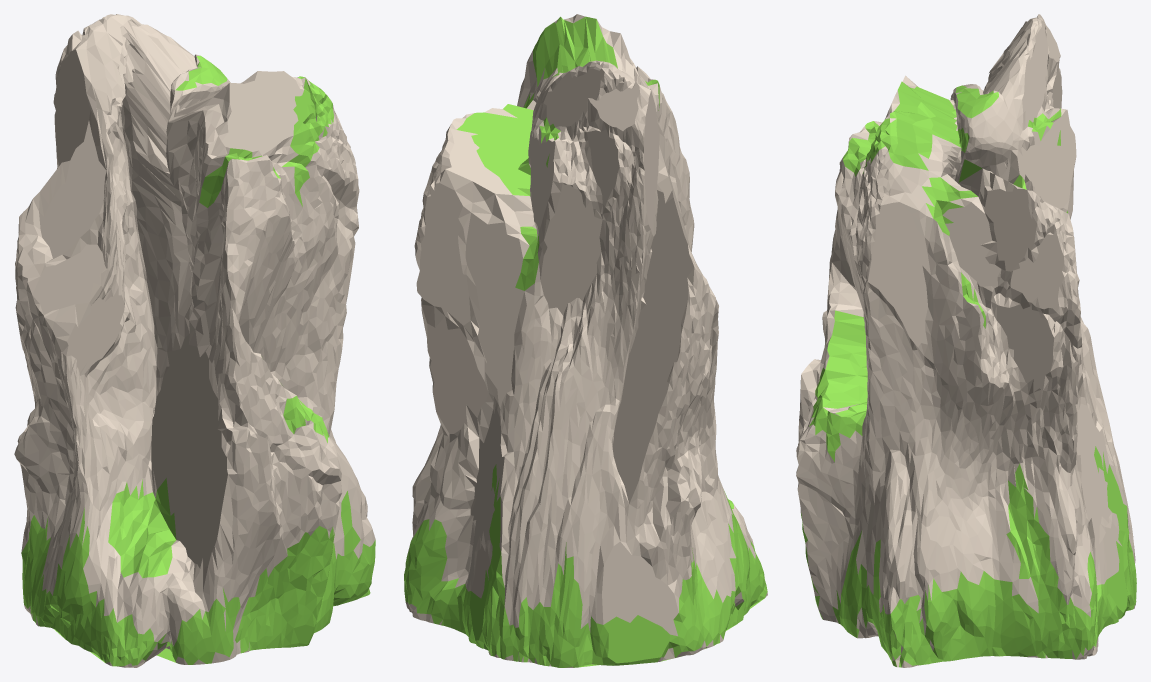
Rendered from rock.fbx.
3 renders of one model, left to right at view 1: azimuth 30°, elevation 25°; view 2: azimuth 150°, elevation 25°; view 3: azimuth 270°, elevation 25°, orthographic. The views are drawn at different scales.
Parts seen in each view (by area): view 1: Cube.002; view 2: Cube.002; view 3: Cube.002.
Part boxes in pixels (left/top/right/bottom): Cube.002: left=14, top=14, right=375, bottom=667; Cube.002: left=404, top=14, right=767, bottom=667; Cube.002: left=796, top=14, right=1136, bottom=667.
Bounding box in the file's own units: 1711 × 3190 × 1766.
